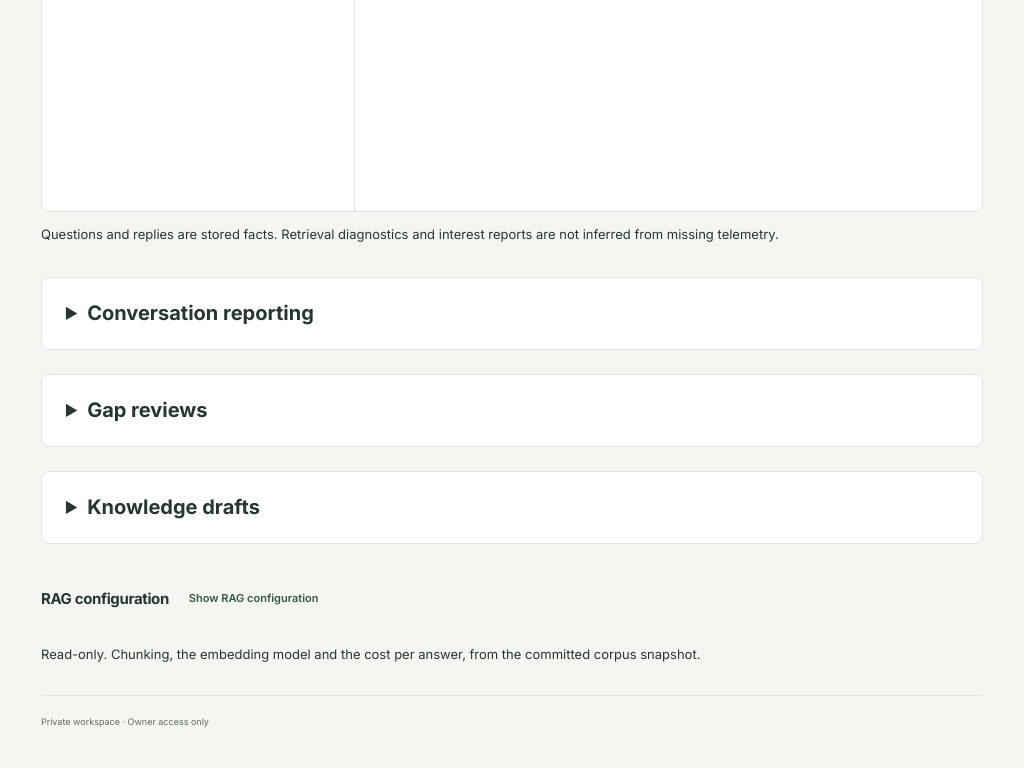
Test: returns to sign-in and clears the RAG view when the owner session is refused
(page scrolled)
Click the button "Show RAG configuration" at (254, 598), box top-left (189, 576), bottom-right (318, 620)
(page scrolled)
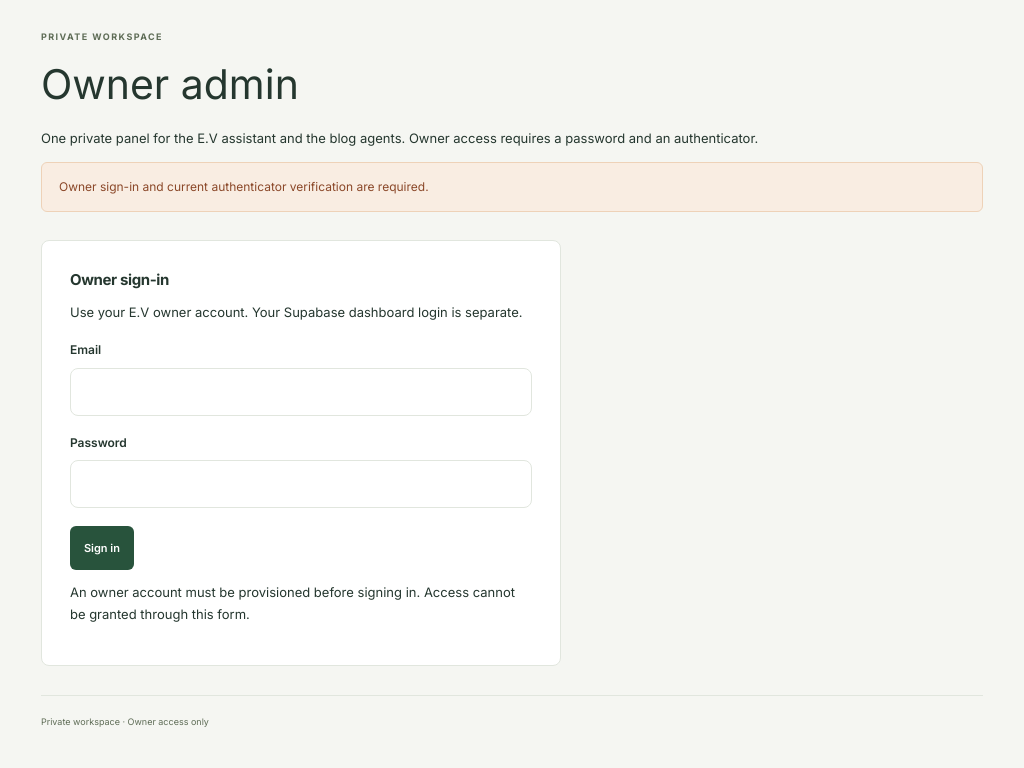
Result: the heading "Owner sign-in" is shown at top-left (70, 270), bottom-right (169, 288)
